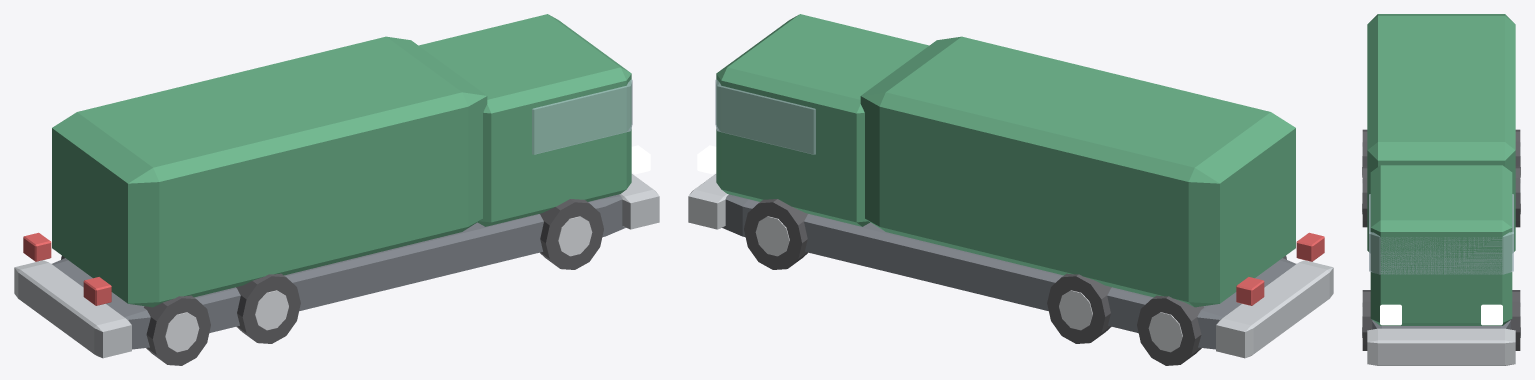
Rendered from b15_rear_loader_refuse_truck.glb.
3 renders of one model, left to right at view 1: azimuth 30°, elevation 25°; view 2: azimuth 150°, elevation 25°; view 3: azimuth 270°, elevation 25°, orthographic. The views are drawn at different scales.
Parts seen in each view (by area): view 1: b15_rear_loader_refuse_truck; view 2: b15_rear_loader_refuse_truck; view 3: b15_rear_loader_refuse_truck.
Part boxes in pixels (x1,y1,x2,y2): b15_rear_loader_refuse_truck: (14,14,659,365); b15_rear_loader_refuse_truck: (688,14,1333,365); b15_rear_loader_refuse_truck: (1362,14,1520,365).
Size of the model in its own units: 10.02 by 3.35 by 2.94.
